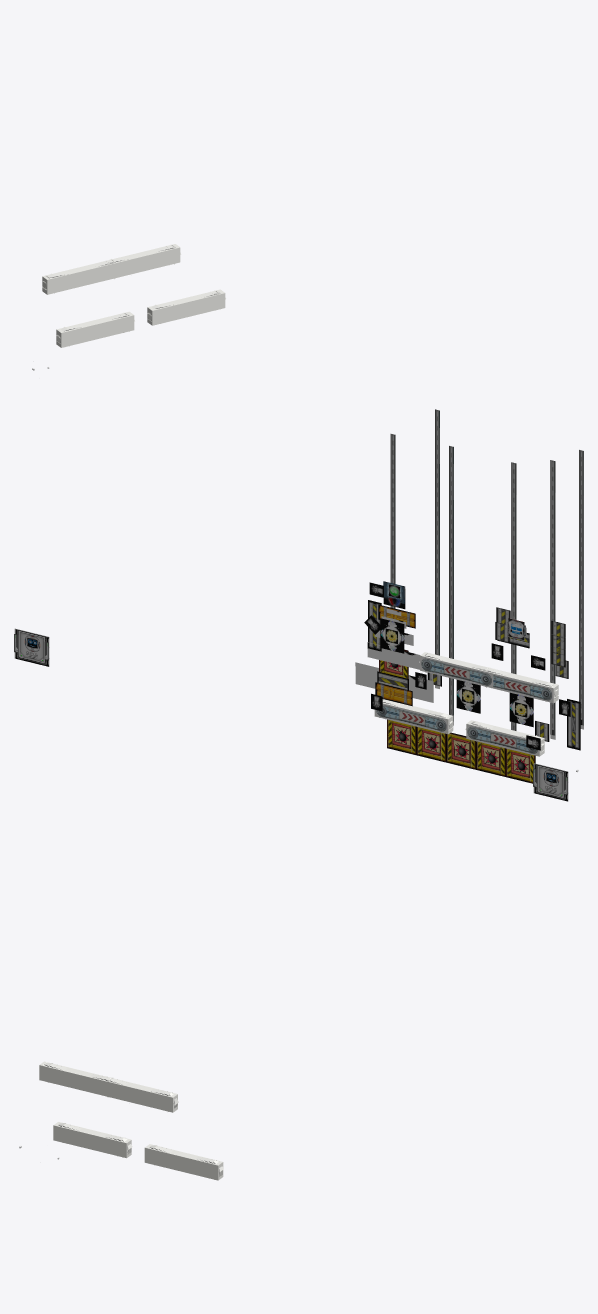
File: pack_4_level_14.glb
3 views of the same model, one above another, from view 1: azimuth 30°, elevation 25°; view 2: azimuth 150°, elevation 25°; view 3: azimuth 330°, elevation 25° (orthographic).
Visible parts, largest first — view 1: conveer_1_right (×2), conveer_1_left (×2); view 2: stropa (×6), box_explode (×5), conveer_1_right (×2), conveer_1_left (×2), mBox_4 (×2), wave_3, wave_4, balk_metal_147v, balk_110; view 3: conveer_1_right (×2), conveer_1_left (×2).
Part boxes in pixels (x1,y1,x2,y2): conveer_1_right (×2): (56,289,225,347); conveer_1_left (×2): (42,244,180,294); stropa (×6): (390,409,583,739); box_explode (×5): (387,719,535,783); conveer_1_right (×2): (374,702,544,756); conveer_1_left (×2): (420,652,558,703); mBox_4 (×2): (14,628,568,801); wave_3: (355,662,433,702); wave_4: (367,642,420,669); balk_metal_147v: (567,699,580,750); balk_110: (375,682,412,706); conveer_1_right (×2): (53,1122,223,1180); conveer_1_left (×2): (39,1061,177,1112).
Size of the model in its own units: 1973 by 1144 by 116.
8 materials, 6 textured.
